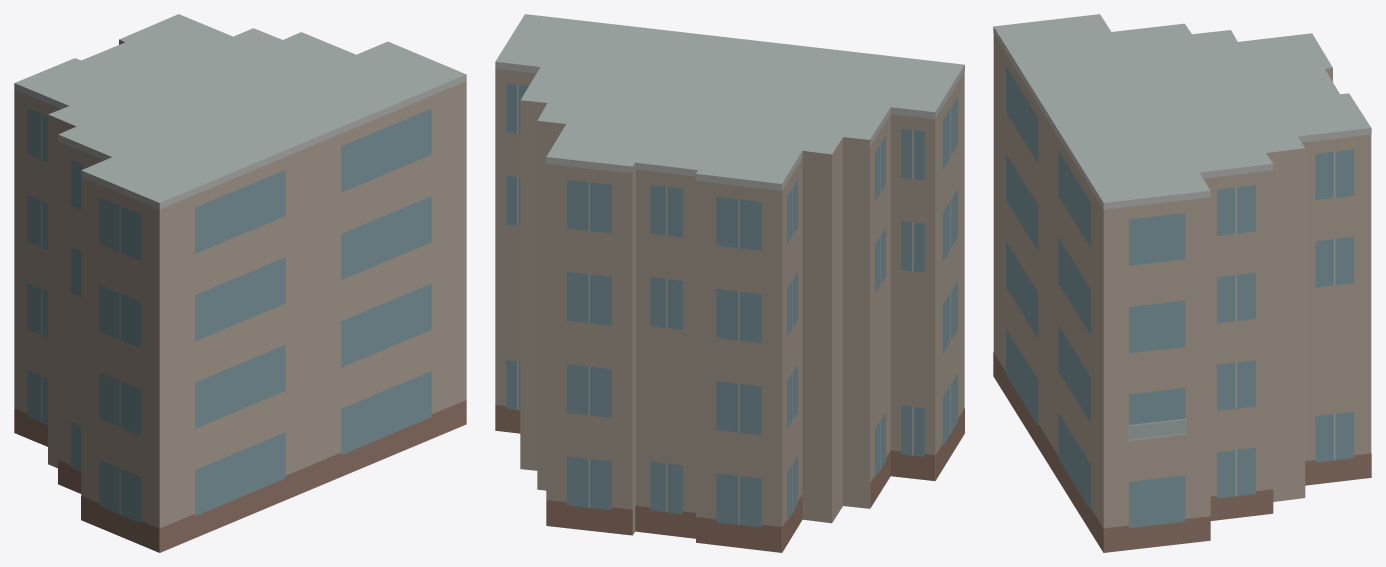
Rendered from survey-upis-32674897.glb.
The picture shows the model from 3 angles, left to right: view 1: azimuth 30°, elevation 25°; view 2: azimuth 150°, elevation 25°; view 3: azimuth 270°, elevation 25°; orthographic projection. The views are drawn at different scales.
Visible parts, largest first — view 1: survey-upis-32674897.tmp; view 2: survey-upis-32674897.tmp; view 3: survey-upis-32674897.tmp.
Boxes of the visible parts, x1=… form: survey-upis-32674897.tmp: x1=14, y1=14, x2=466, y2=552; survey-upis-32674897.tmp: x1=495, y1=14, x2=964, y2=552; survey-upis-32674897.tmp: x1=993, y1=14, x2=1371, y2=552.
Size of the model in its own units: 15.07 by 13 by 12.74.
